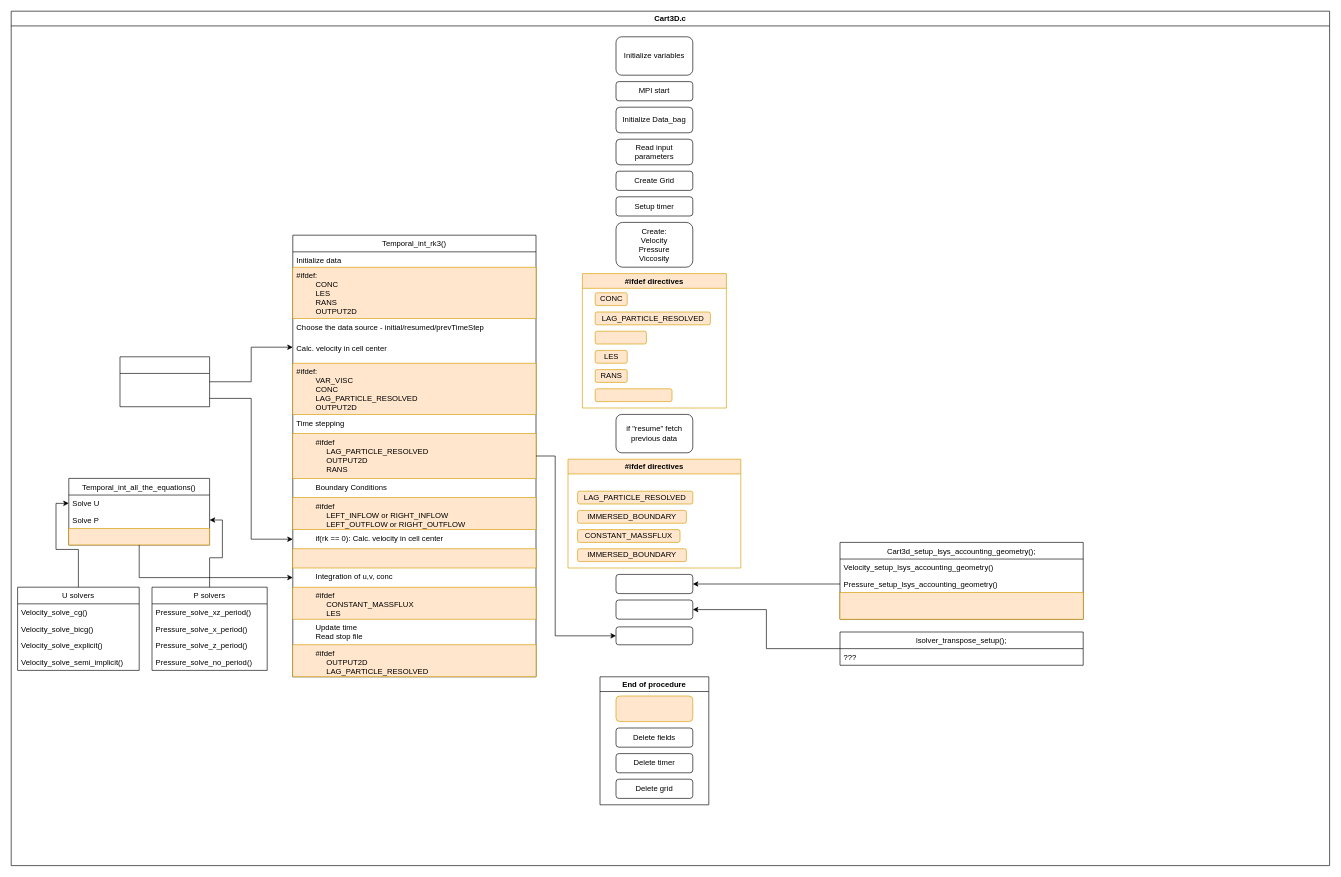
The diagram is 1341 pixels wide and 877 high, and some of its shapes have lost their labels. The shapes that lost their labels are listed below. From the top down, each one's centre as x and y in pixels, then its label:
pixel 620 337: OUTPUT2D
pixel 164 381: Velocity_cell_center()
pixel 633 395: TURB_FORCING
pixel 139 536: #ifdef smth: Solve it
pixel 414 558: #ifdef RANS
pixel 654 584: Setup linear system
pixel 654 609: Setup solver
pixel 961 605: #ifdef CONC: Conc_setup_lsys_accounting_geometry
pixel 654 635: Solve
pixel 654 708: Delete additional fields
